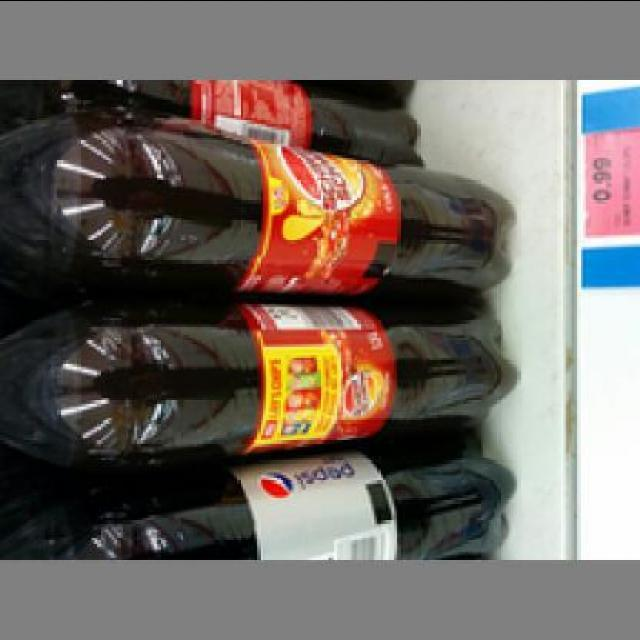Coke: (2, 111, 516, 303), (2, 295, 516, 480), (2, 437, 516, 563)
